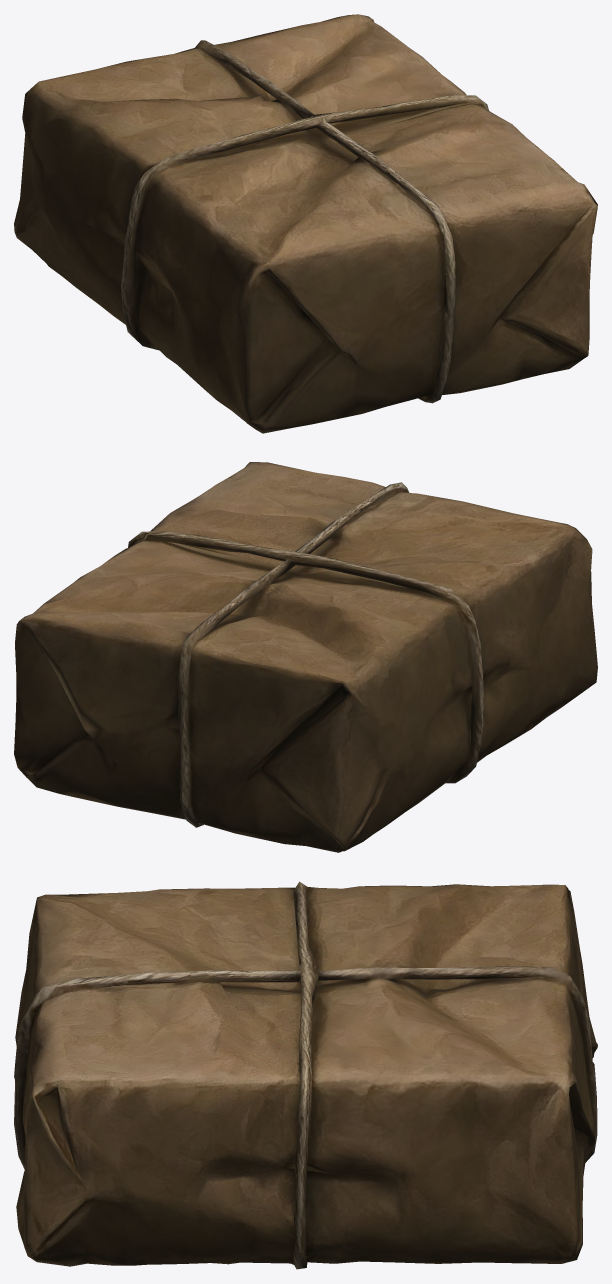
File: parcel_wrapped_large.glb
The picture shows the model from 3 angles, top to bottom: view 1: azimuth 30°, elevation 25°; view 2: azimuth 150°, elevation 25°; view 3: azimuth 270°, elevation 25°; orthographic projection. The views are drawn at different scales.
Parts seen in each view (by area): view 1: tripo_node_d5f40268-7989-497b-9914-1c50c9235ca4; view 2: tripo_node_d5f40268-7989-497b-9914-1c50c9235ca4; view 3: tripo_node_d5f40268-7989-497b-9914-1c50c9235ca4.
Part boxes in pixels (<box>): tripo_node_d5f40268-7989-497b-9914-1c50c9235ca4: <box>14,14,597,433</box>; tripo_node_d5f40268-7989-497b-9914-1c50c9235ca4: <box>14,462,597,852</box>; tripo_node_d5f40268-7989-497b-9914-1c50c9235ca4: <box>14,881,597,1269</box>.
Bounding box in the file's own units: 0.8222 × 0.4481 × 1.
Materials: 1 (1 with a texture image).
